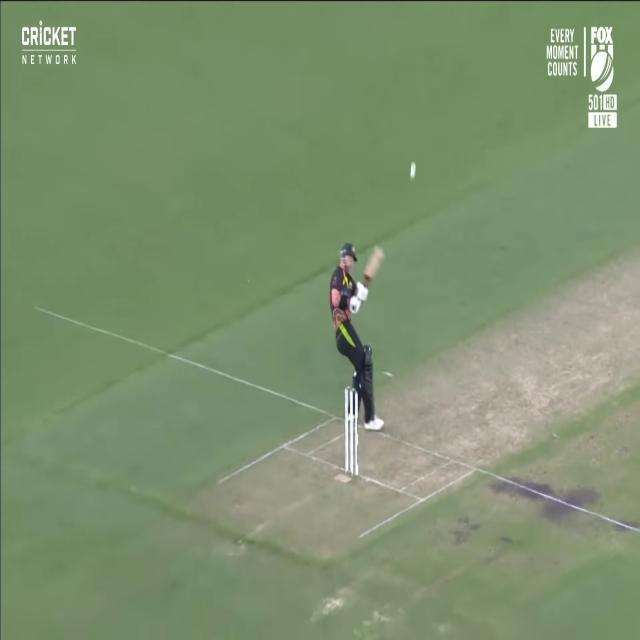stumps: (339, 383, 362, 478)
